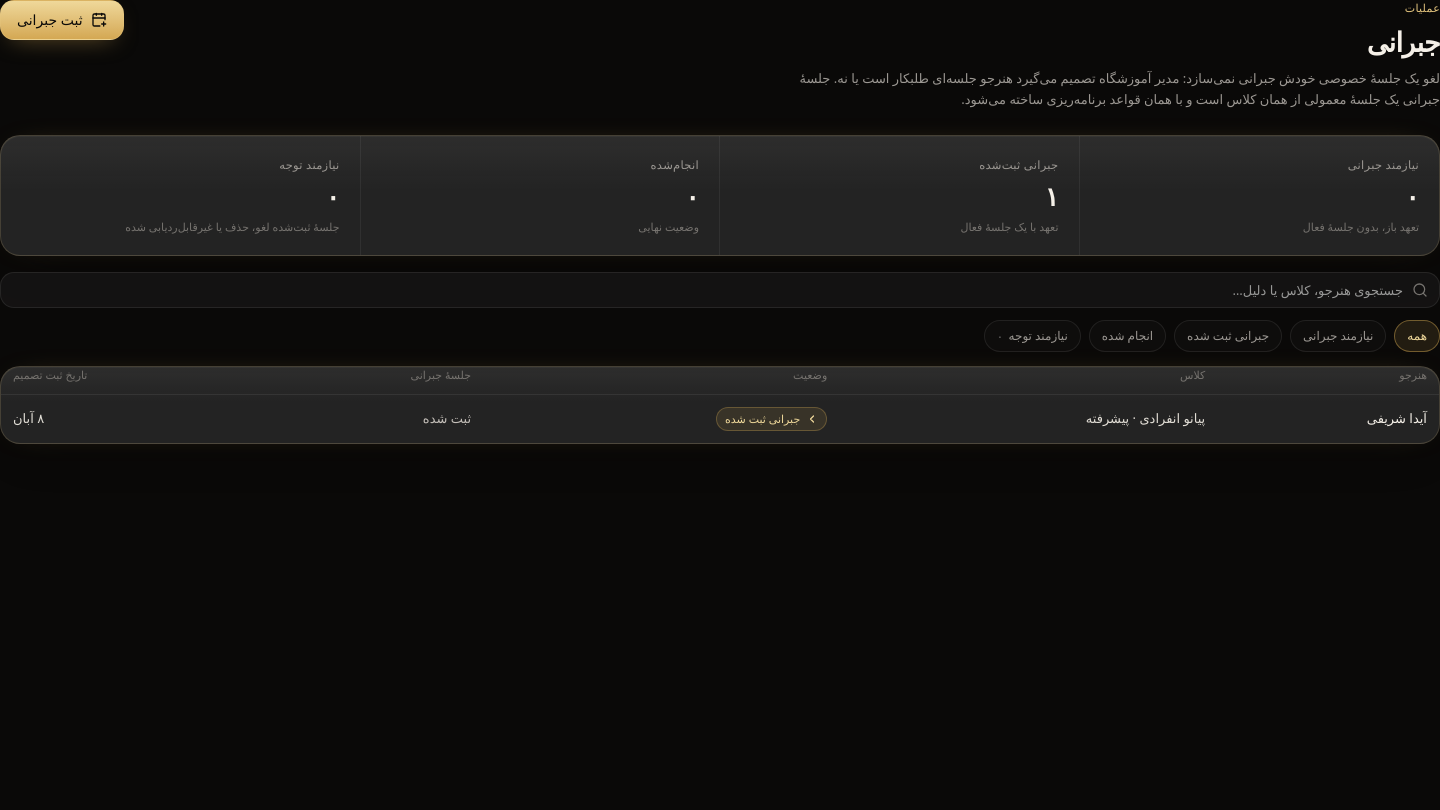
Scenario: a make-up whose read failed › is named as a failed read, not as missing data, and blocks the move until it answers
This screenshot has width=1440, height=810.
Click the text "آیدا شریفی". click: (1397, 418)
box: [1367,409,1427,427]
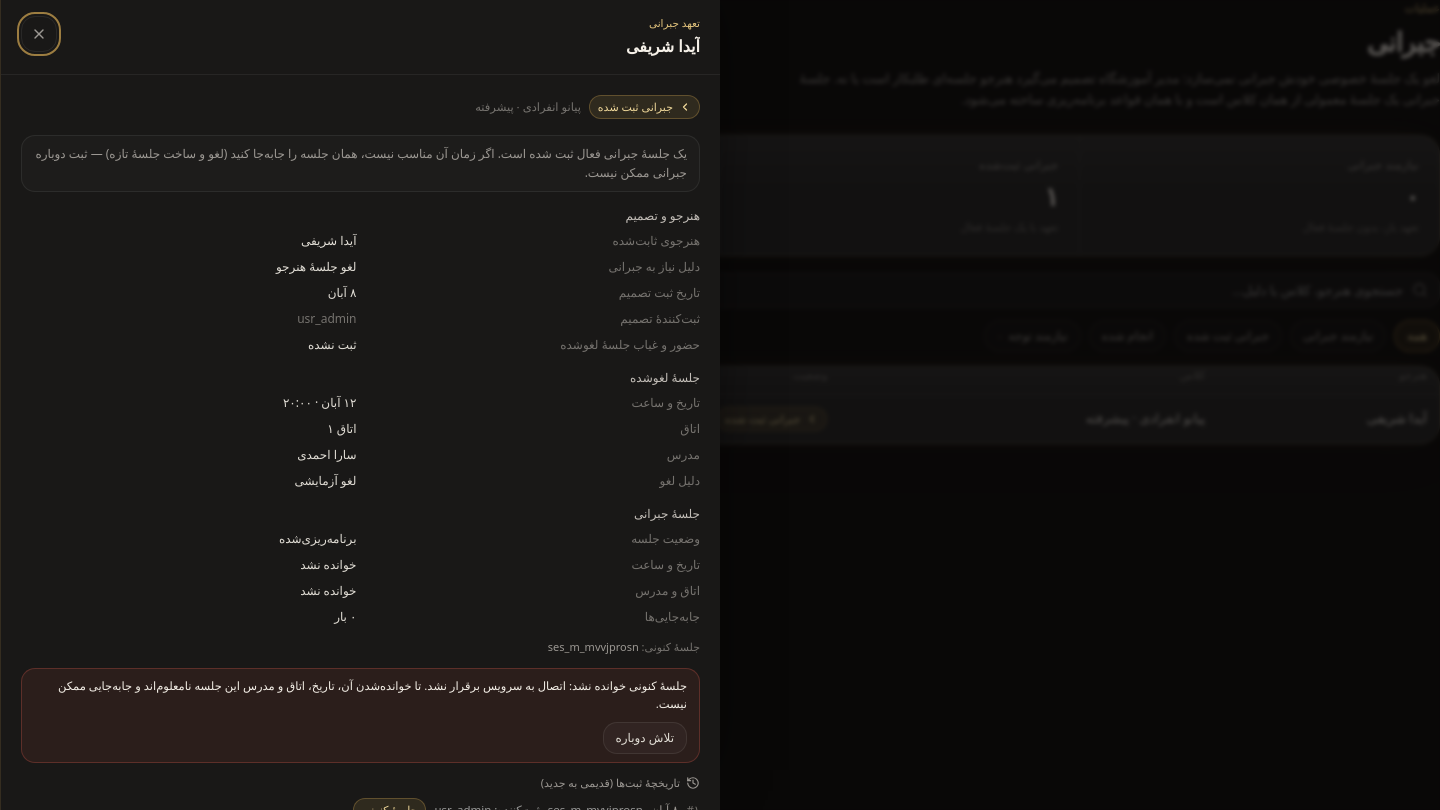
Result: the dialog is shown
Result: the text "جلسهٔ کنونی خوانده نشد" is shown at [566,678,687,693]
Click the button "تلاش دوباره". click: (645, 738)
box: [602,722,687,754]
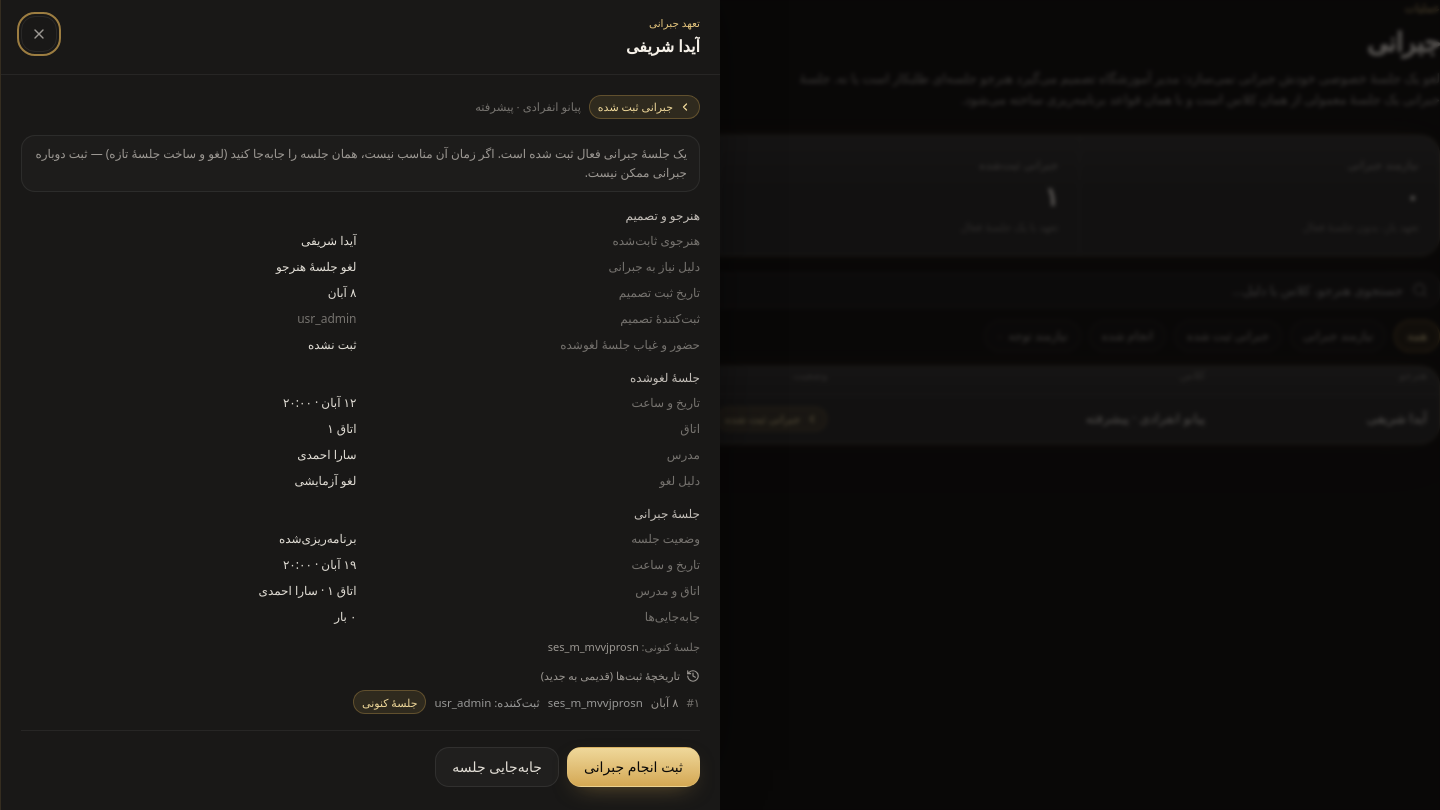
Result: the button "جابه‌جایی جلسه" is enabled at [435,747,559,787]
Result: the text "جلسهٔ کنونی خوانده نشد" is gone
Result: the text "خوانده نشد" is gone
